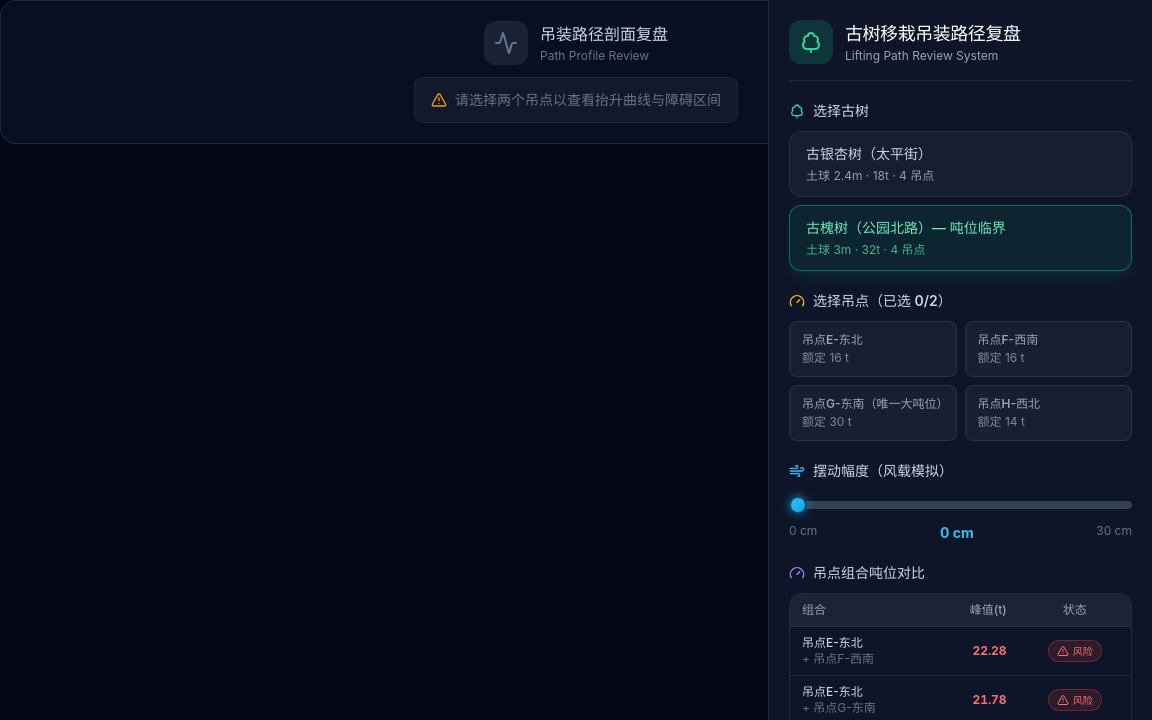
Test: 集成：场景2 - 古槐树（公园北路）— 吨位临界 › 选吊点F+吊点H → 组合表中该行「风险」+ 评估卡片吨位不足
Click the button "吊点F-西南 额定 16 t".
click(1048, 349)  # box [964, 321, 1132, 377]
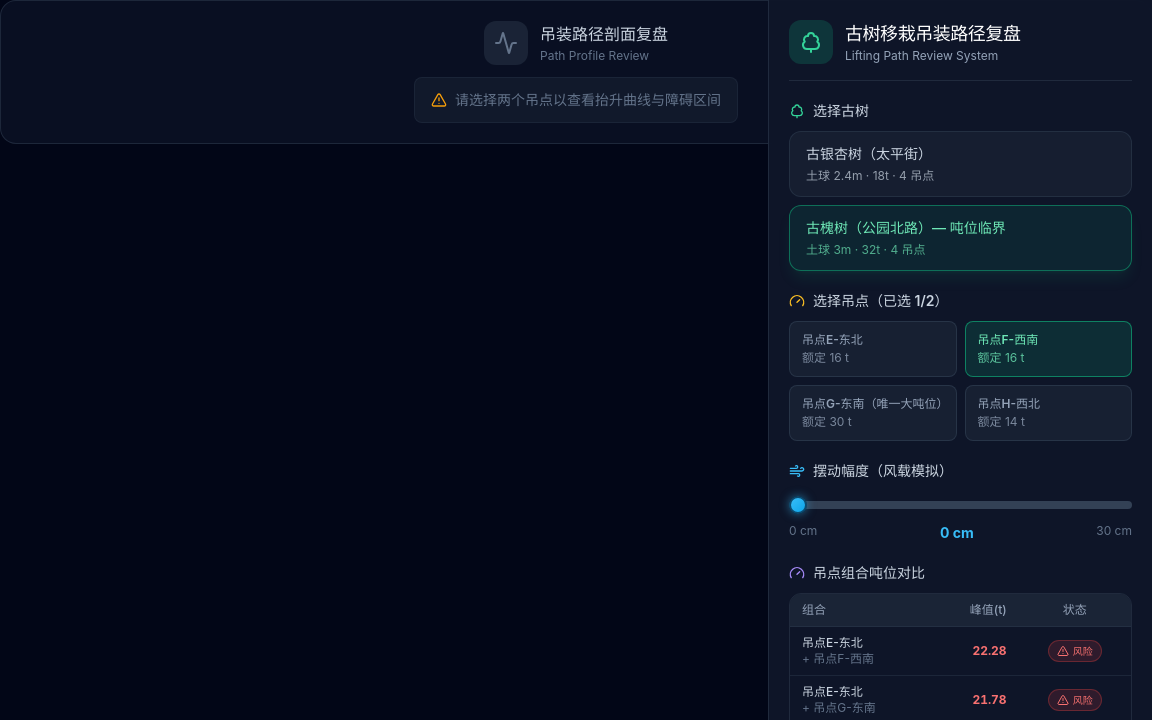
Click the button "吊点H-西北 额定 14 t".
click(1048, 413)  # box [964, 385, 1132, 441]
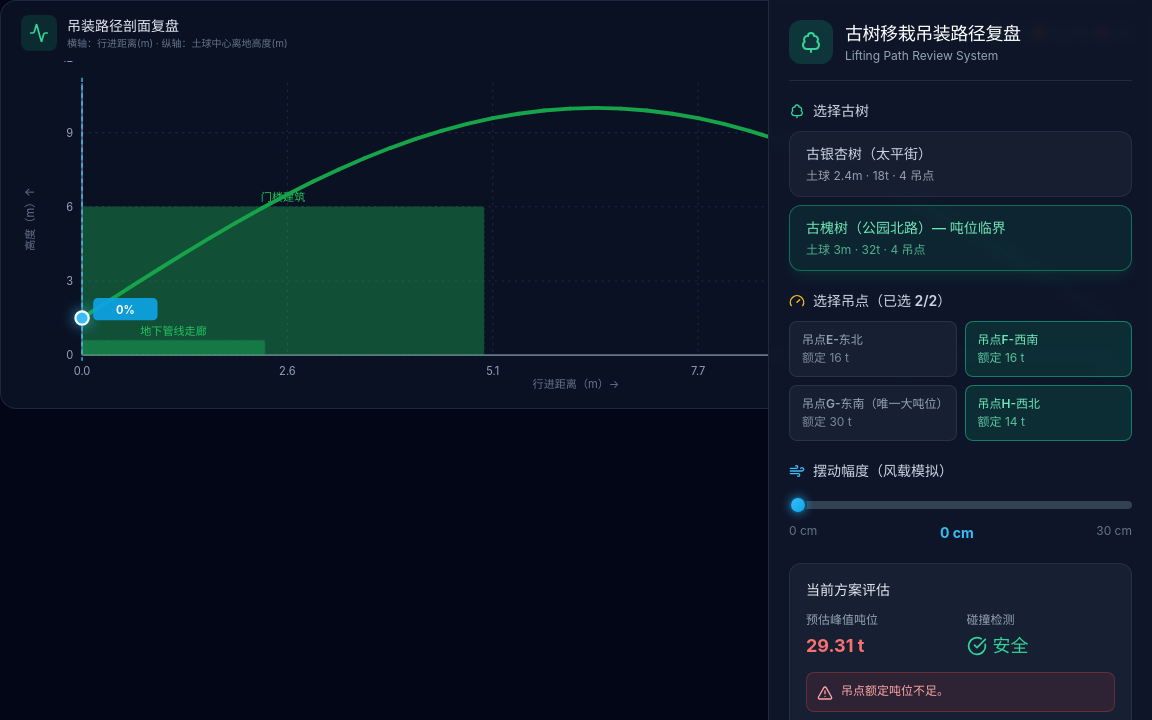
Result: the text "吊点额定吨位不足。" is shown at [841, 683, 949, 699]
